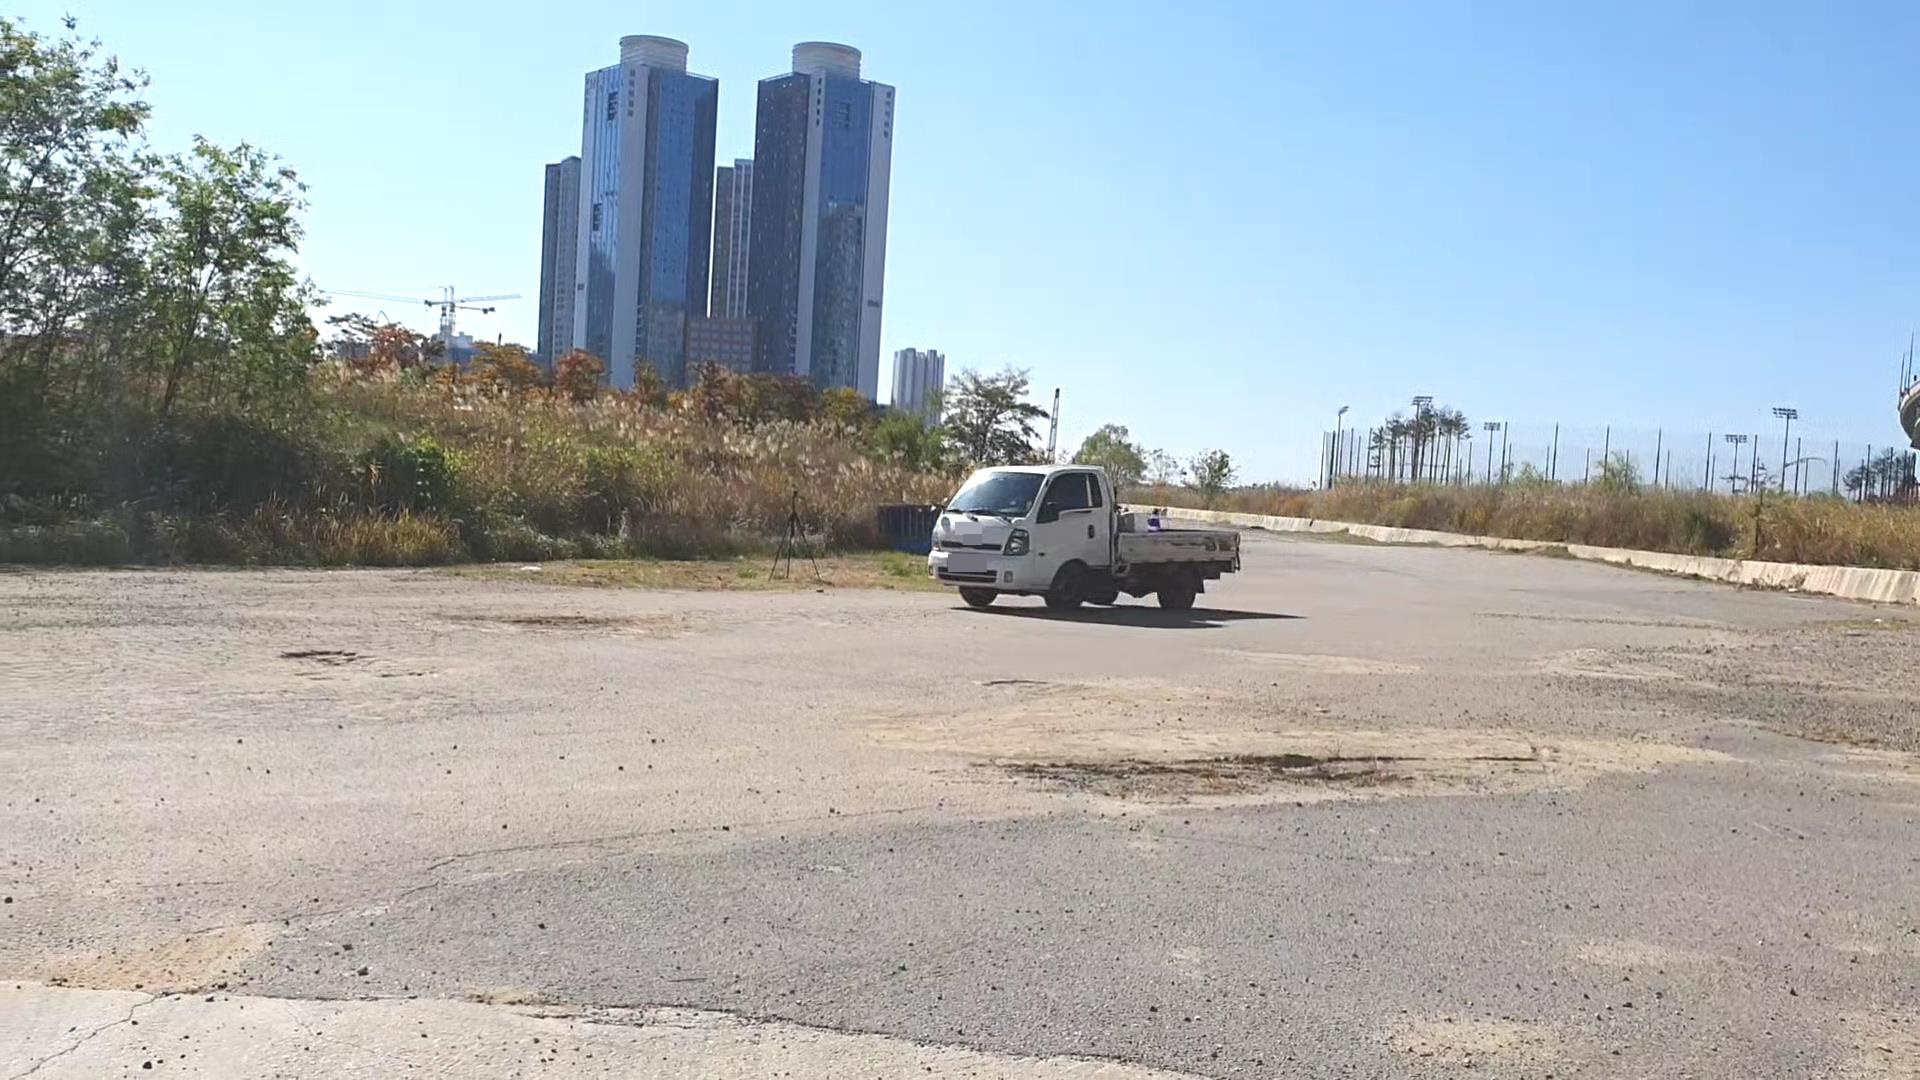불법차량: (927, 465, 1241, 610)
